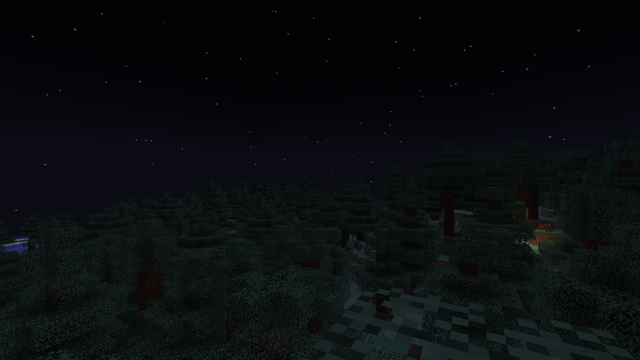araignees: (535, 222, 551, 231)
